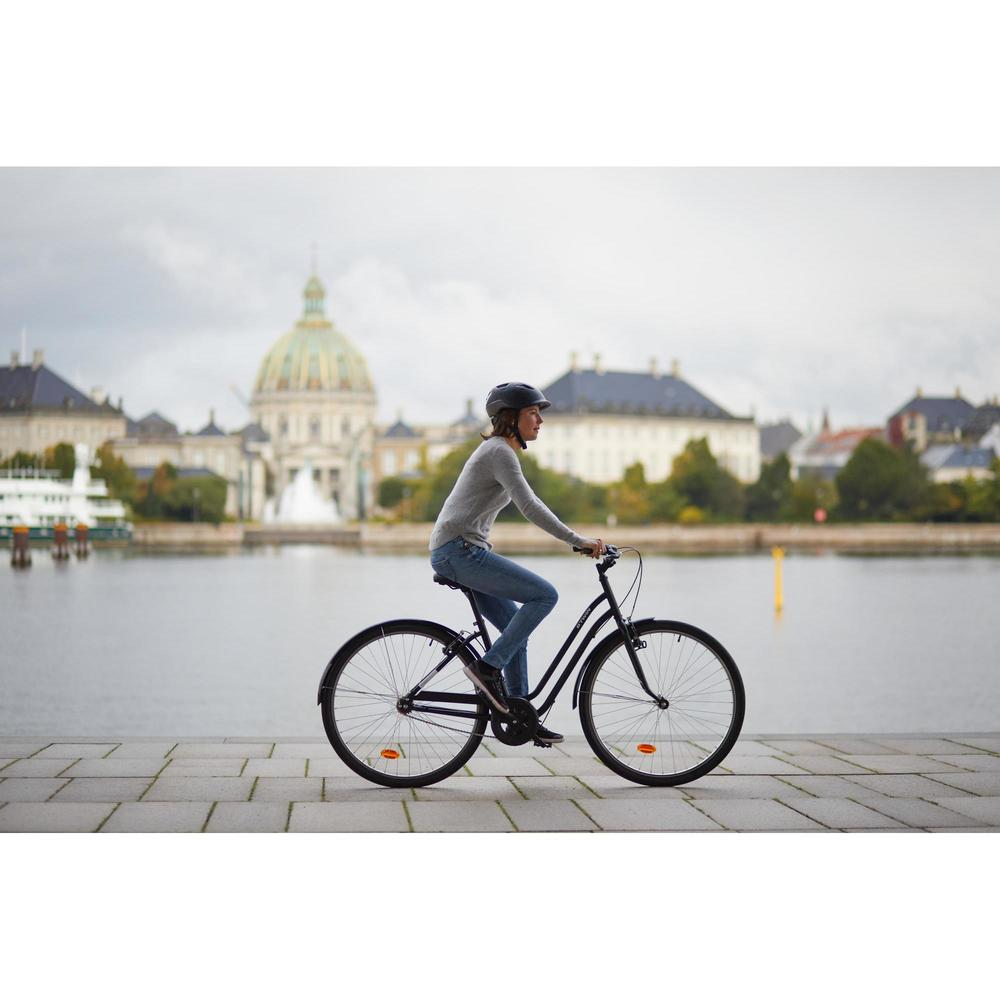UrbanBike: (318, 541, 737, 785)
